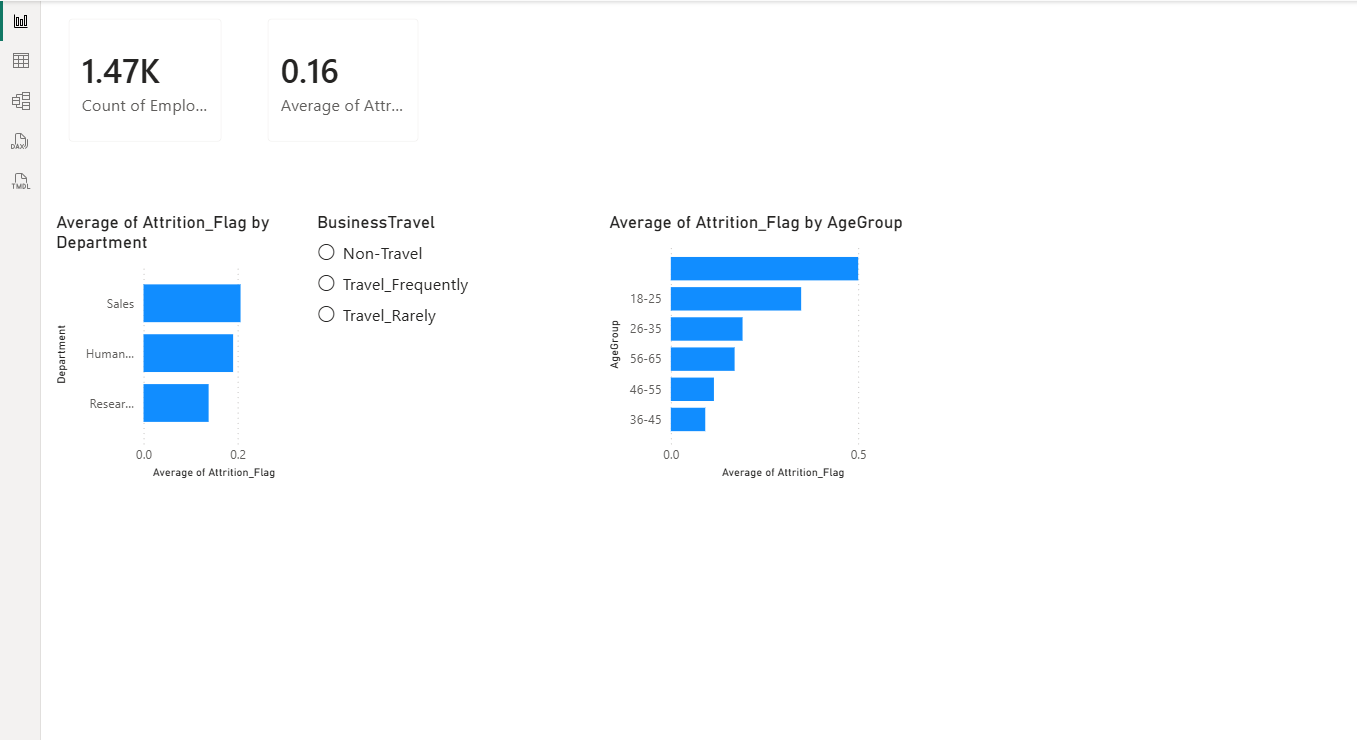

The page's visual inventory and layout, read from the dashboard file:
{"tool":"powerbi","page":{"name":"Page 1","canvas":[1280,720],"ordinal":0},"visuals":[{"type":"cardVisual","fields":{"Data":["CountNonNull(hr_clean.EmployeeNumber)"]},"box":[9.7,0,183.8,154.7],"z":0},{"type":"cardVisual","fields":{"Data":["Avg(hr_clean.Attrition_Flag)"]},"box":[203.3,0,181.9,154.7],"z":1},{"type":"clusteredBarChart","fields":{"Category":["hr_clean.Department"],"Y":["Avg(hr_clean.Attrition_Flag)"]},"box":[9.7,205.2,240.2,263.6],"z":2},{"type":"listSlicer","fields":{"Values":["hr_clean.BusinessTravel"]},"box":[263.6,205.2,376.4,263.6],"z":3},{"type":"clusteredBarChart","fields":{"Category":["hr_clean.AgeGroup"],"Y":["Avg(hr_clean.Attrition_Flag)"]},"box":[547.6,205.2,296.7,263.6],"z":4}]}

Visuals, with their boxes in screenshot pixels (x1, y1, x2, y2):
cardVisual - CountNonNull(hr_clean.EmployeeNumber): bbox=[140, 14, 320, 165]
cardVisual - Avg(hr_clean.Attrition_Flag): bbox=[329, 14, 507, 165]
clusteredBarChart - hr_clean.Department x Avg(hr_clean.Attrition_Flag): bbox=[140, 214, 375, 472]
listSlicer - hr_clean.BusinessTravel: bbox=[388, 214, 755, 472]
clusteredBarChart - hr_clean.AgeGroup x Avg(hr_clean.Attrition_Flag): bbox=[665, 214, 955, 472]
